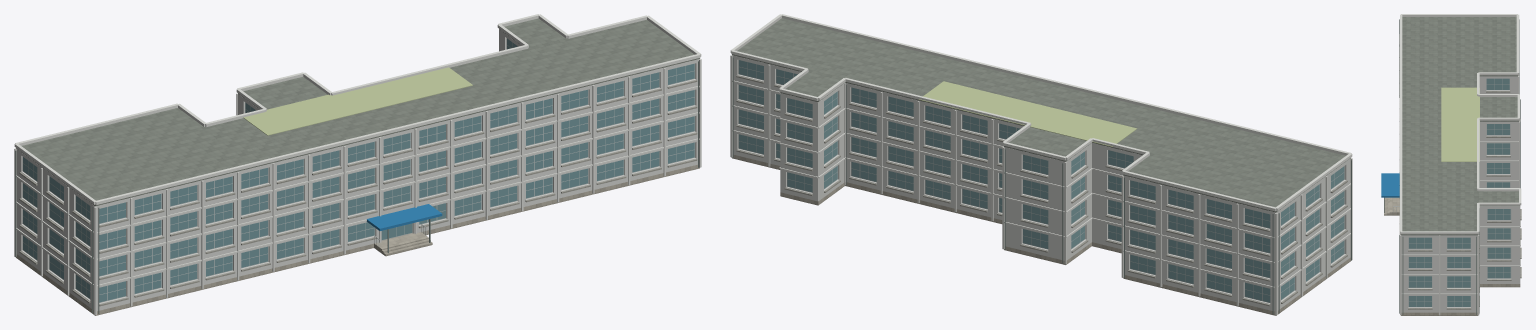
3 renders of one model, left to right at view 1: azimuth 30°, elevation 25°; view 2: azimuth 150°, elevation 25°; view 3: azimuth 270°, elevation 25°, orthographic. The views are drawn at different scales.
Visible parts, largest first — view 1: rear__wall, rear__roof, rear__glass, rear__trim, rear__frame, rear__sill, rear__roofGreen, rear__stone, rear__sideglass, rear__blue, rear__steel, rear__stair-front; view 2: rear__wall, rear__roof, rear__sideglass, rear__trim, rear__frame, rear__sill, rear__roofGreen, rear__stone, rear__steel; view 3: rear__roof, rear__wall, rear__sideglass, rear__trim, rear__roofGreen, rear__frame, rear__sill, rear__steel, rear__blue, rear__stone, rear__stair-front, rear__threshold-front.
Part boxes in pixels (bbox=[...]): rear__wall: bbox=[16, 29, 699, 311]; rear__roof: bbox=[16, 18, 699, 206]; rear__glass: bbox=[99, 63, 694, 302]; rear__trim: bbox=[14, 14, 701, 315]; rear__frame: bbox=[22, 38, 695, 302]; rear__sill: bbox=[19, 80, 697, 306]; rear__roofGreen: bbox=[243, 67, 472, 135]; rear__stone: bbox=[16, 164, 699, 315]; rear__sideglass: bbox=[23, 38, 517, 298]; rear__blue: bbox=[366, 204, 442, 230]; rear__steel: bbox=[15, 61, 698, 313]; rear__stair-front: bbox=[380, 236, 432, 256]; rear__wall: bbox=[732, 55, 1350, 311]; rear__roof: bbox=[732, 18, 1350, 212]; rear__sideglass: bbox=[739, 60, 1344, 302]; rear__trim: bbox=[730, 14, 1352, 315]; rear__frame: bbox=[738, 60, 1344, 302]; rear__sill: bbox=[736, 75, 1347, 306]; rear__roofGreen: bbox=[918, 81, 1137, 146]; rear__stone: bbox=[732, 155, 1350, 315]; rear__steel: bbox=[731, 54, 1351, 313]; rear__roof: bbox=[1401, 17, 1519, 235]; rear__wall: bbox=[1401, 76, 1520, 312]; rear__sideglass: bbox=[1409, 78, 1510, 306]; rear__trim: bbox=[1400, 14, 1521, 315]; rear__roofGreen: bbox=[1441, 87, 1479, 161]; rear__frame: bbox=[1393, 79, 1511, 307]; rear__sill: bbox=[1399, 34, 1521, 309]; rear__steel: bbox=[1384, 19, 1520, 314]; rear__blue: bbox=[1381, 173, 1399, 197]; rear__stone: bbox=[1401, 284, 1520, 315]; rear__stair-front: bbox=[1384, 197, 1392, 215]; rear__threshold-front: bbox=[1392, 197, 1399, 215].
Bounding box in the file's own units: 79.96 × 14.35 × 21.67.
Materials: 11 (5 with a texture image).
